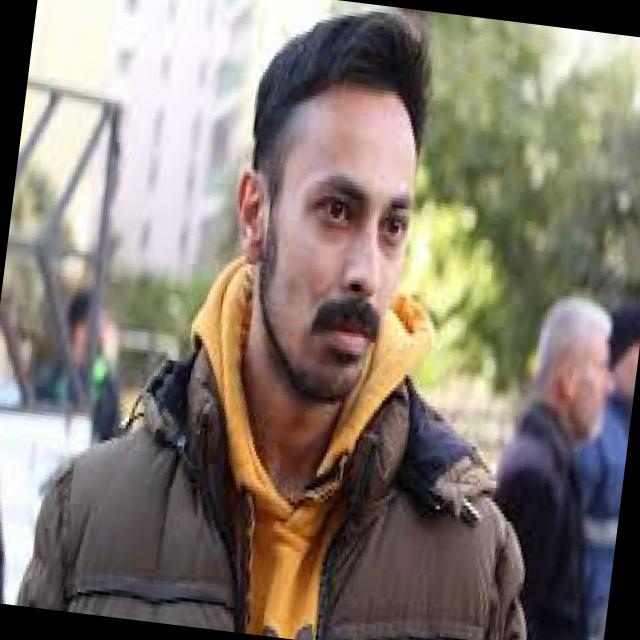Jacket: (14, 340, 609, 640)
